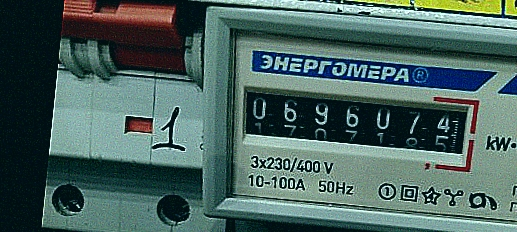0: (247, 94, 268, 120), (373, 103, 392, 131)
4: (434, 109, 453, 134)
5: (432, 132, 449, 152)
6: (279, 95, 301, 124), (341, 102, 361, 128)
7: (402, 107, 422, 135)
9: (309, 99, 331, 126)
screen: (225, 70, 484, 176)
